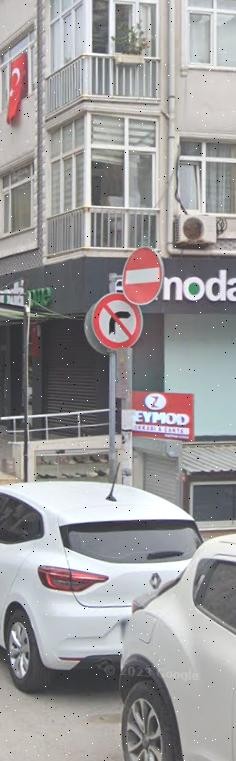rightturnsareforbidden: (89, 291, 147, 352)
